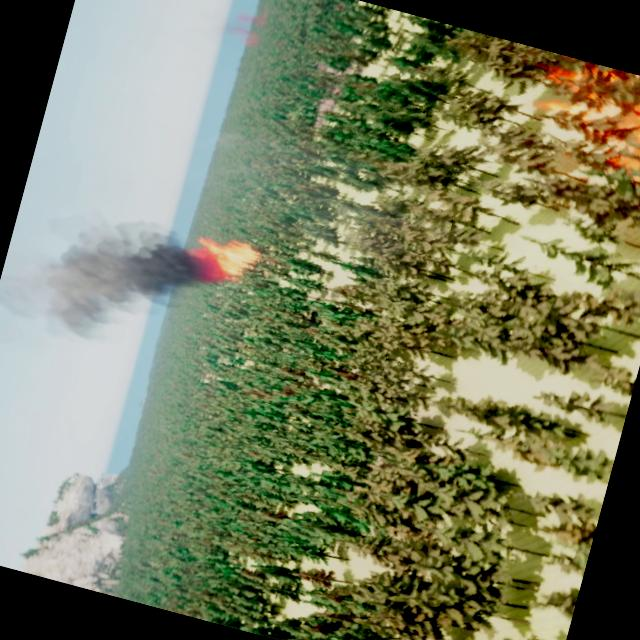fire: (521, 49, 640, 184), (189, 228, 265, 282)
smoke: (0, 184, 225, 370)
